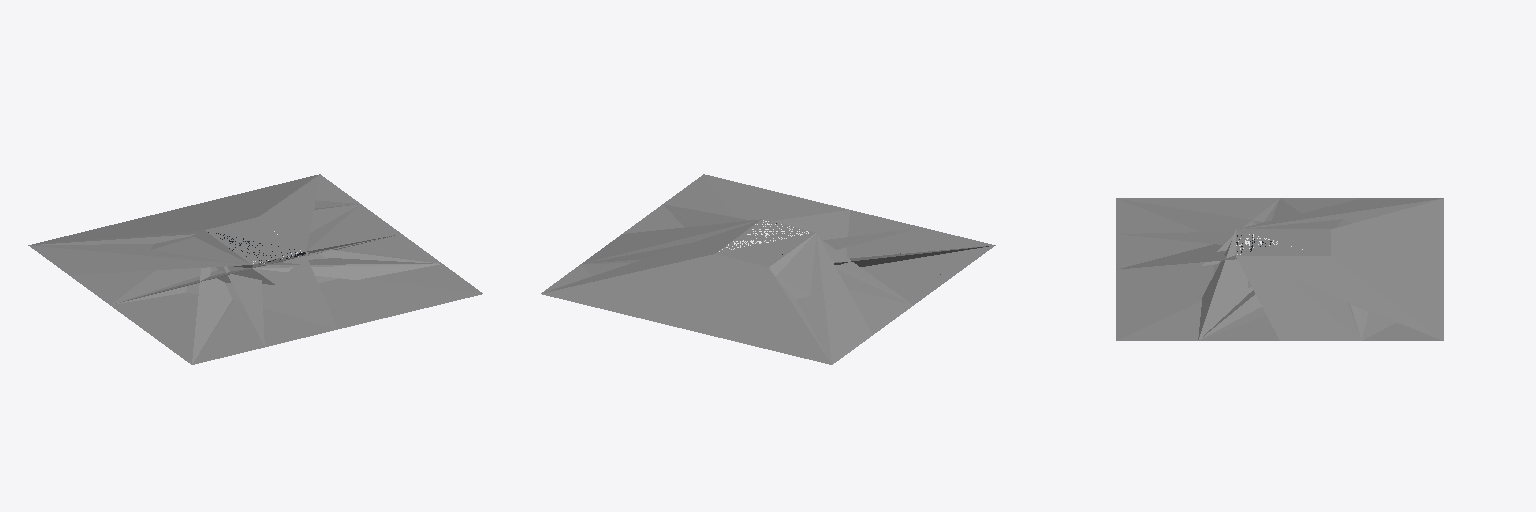
The model's file is carrgt.obj.
The picture shows the model from 3 angles: view 1: azimuth 30°, elevation 25°; view 2: azimuth 150°, elevation 25°; view 3: azimuth 270°, elevation 25°; orthographic projection.
Parts seen in each view (by area): view 1: Int_0_02, SiMirr02, DrR02, FeRL02, FeFR02, SIL02, IntD02, Int02, BuMF02, LiINS02, StWH02, Engine02 (+5 smaller); view 2: Int_0_02, BumR02, SIL02, DrR02, FeRL02, FeFR02, SiMirr02, IntD02, LiINS02, hood02, Int02, BuMF02 (+2 smaller); view 3: Int_0_02, FeRL02, IntD02, SiMirr02, FeFR02, DrR02, SIL02, LiIns02, BuMF02, BumR02, Int02, LiINS02 (+4 smaller).
Boxes of the visible parts, <box> form: Int_0_02: <box>30,174,319,364</box>; SiMirr02: <box>224,257,481,346</box>; DrR02: <box>28,200,441,304</box>; FeRL02: <box>195,204,409,328</box>; FeFR02: <box>192,176,482,363</box>; SIL02: <box>116,237,439,364</box>; IntD02: <box>33,192,359,254</box>; Int02: <box>186,255,337,329</box>; BuMF02: <box>111,217,303,363</box>; LiINS02: <box>69,270,336,357</box>; StWH02: <box>253,253,439,283</box>; Engine02: <box>151,177,319,362</box>; Int_0_02: <box>542,219,995,363</box>; BumR02: <box>686,221,982,364</box>; SIL02: <box>664,206,993,302</box>; DrR02: <box>581,204,912,364</box>; FeRL02: <box>582,192,848,326</box>; FeFR02: <box>543,174,994,293</box>; SiMirr02: <box>704,174,918,249</box>; IntD02: <box>584,243,831,364</box>; LiINS02: <box>848,210,922,334</box>; hood02: <box>544,254,764,345</box>; Int02: <box>771,210,849,256</box>; BuMF02: <box>723,220,993,304</box>; Int_0_02: <box>1138,198,1443,340</box>; FeRL02: <box>1116,230,1428,340</box>; IntD02: <box>1236,199,1443,340</box>; SiMirr02: <box>1116,232,1234,340</box>; FeFR02: <box>1116,198,1439,340</box>; DrR02: <box>1199,198,1442,340</box>; SIL02: <box>1116,199,1342,339</box>; LiIns02: <box>1198,230,1261,340</box>; BuMF02: <box>1117,198,1330,255</box>; BumR02: <box>1138,199,1443,269</box>; Int02: <box>1117,244,1235,269</box>; LiINS02: <box>1116,198,1361,269</box>.
Size of the model in its own units: 69.17 by 6.19 by 67.2.